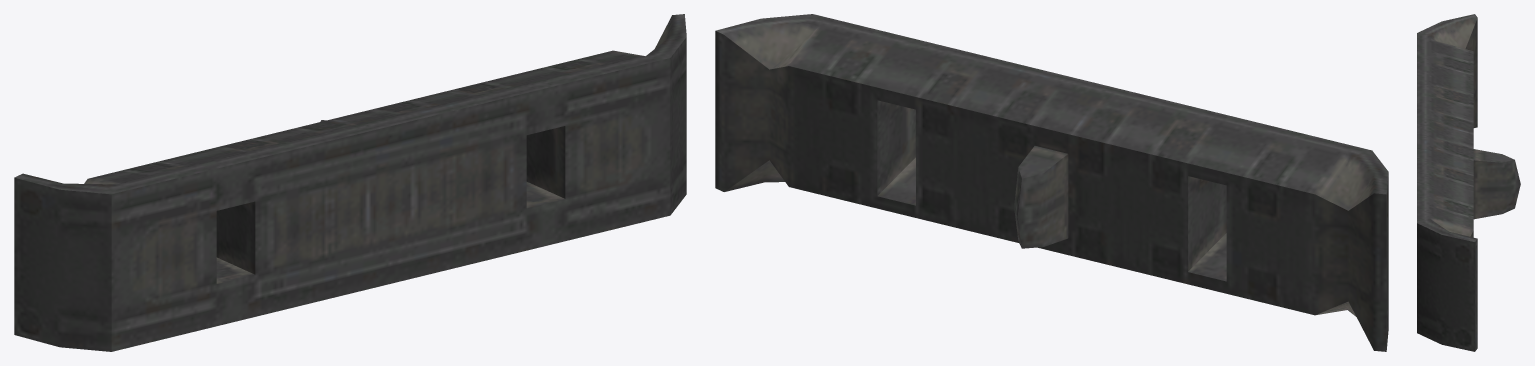
3 renders of one model, left to right at view 1: azimuth 30°, elevation 25°; view 2: azimuth 150°, elevation 25°; view 3: azimuth 270°, elevation 25°, orthographic. The views are drawn at different scales.
Visible parts, largest first — view 1: set_0_group_0; view 2: set_0_group_0; view 3: set_0_group_0.
Part boxes in pixels (x1=…): set_0_group_0: x1=14, y1=14, x2=686, y2=351; set_0_group_0: x1=715, y1=14, x2=1388, y2=351; set_0_group_0: x1=1417, y1=14, x2=1520, y2=351.
Bounding box in the file's own units: 1.1 × 0.2478 × 0.2118.
Materials: 1 (1 with a texture image).
